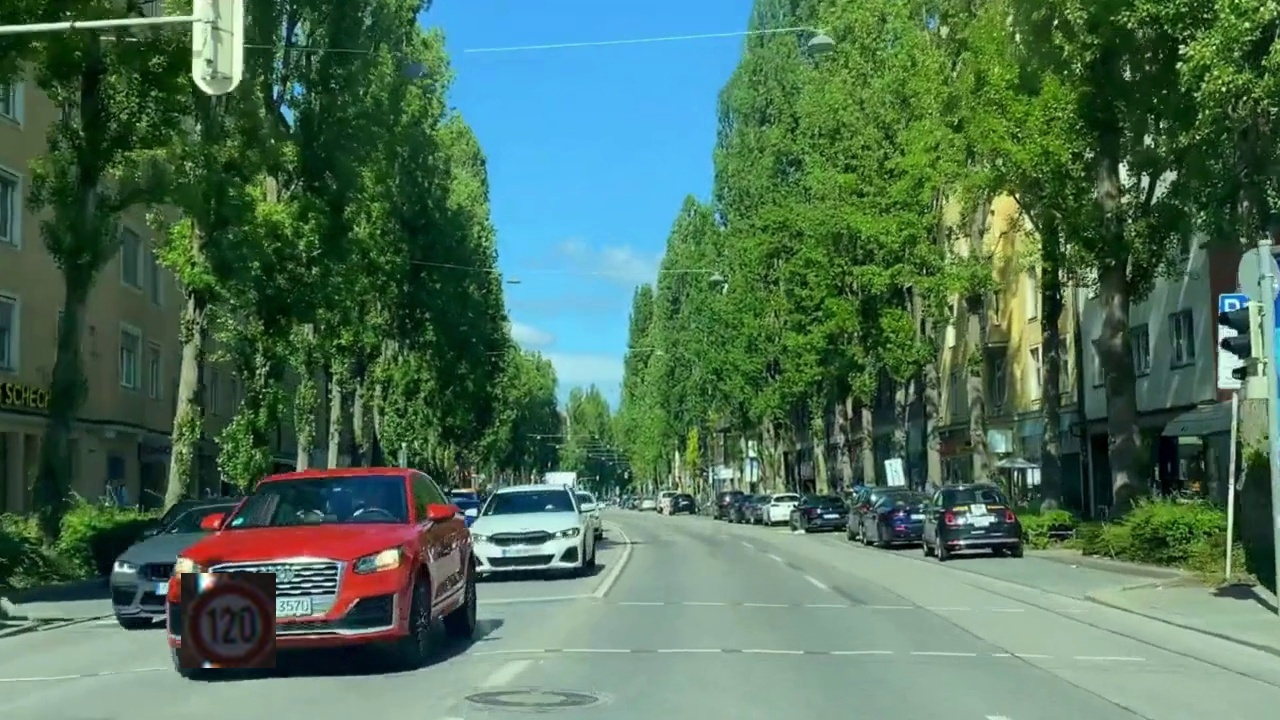Speed 120: (181, 573, 276, 668)
